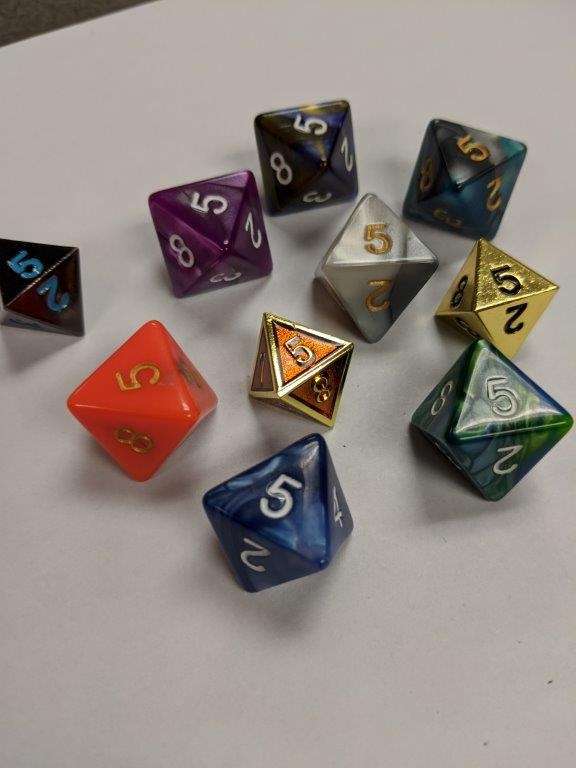d8-5: (408, 340, 571, 503), (205, 428, 356, 599), (69, 318, 215, 485), (317, 191, 439, 346), (437, 235, 561, 364), (399, 120, 529, 242), (148, 172, 272, 296), (239, 305, 356, 428), (254, 99, 357, 214), (1, 235, 92, 336)
